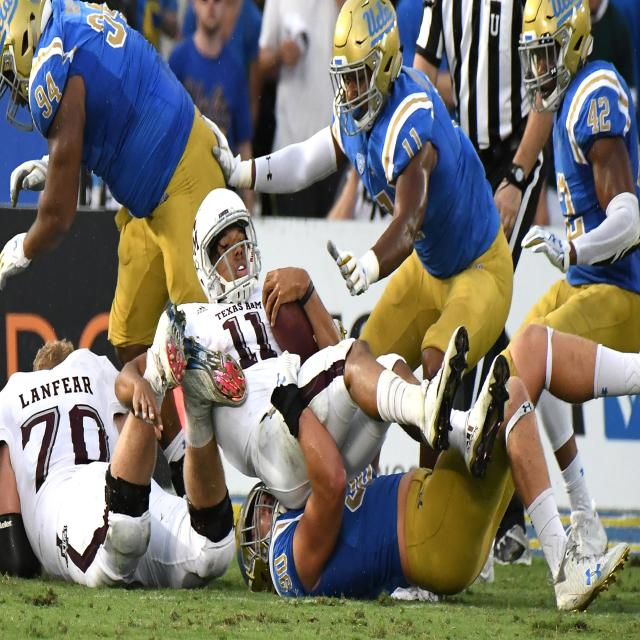body: (112, 184, 512, 515), (234, 318, 640, 620), (0, 2, 231, 500), (476, 0, 639, 585), (410, 0, 559, 571), (0, 300, 252, 592), (324, 35, 453, 225), (533, 0, 640, 229), (255, 0, 347, 219), (167, 0, 255, 220), (129, 0, 190, 65), (237, 0, 262, 59)
